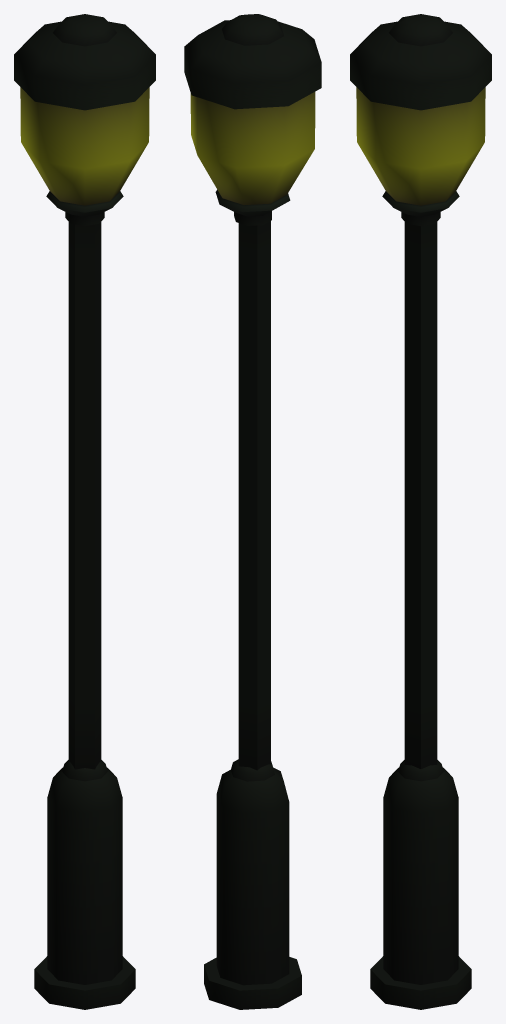
Rendered from SM_Streetlight_001.fbx.
The picture shows the model from 3 angles, left to right: view 1: azimuth 90°, elevation 25°; view 2: azimuth 210°, elevation 25°; view 3: azimuth 270°, elevation 25°; orthographic projection.
Parts seen in each view (by area): view 1: SM_Streetlight_001; view 2: SM_Streetlight_001; view 3: SM_Streetlight_001.
Part boxes in pixels (x1=…): SM_Streetlight_001: x1=14, y1=14, x2=155, y2=1009; SM_Streetlight_001: x1=184, y1=14, x2=321, y2=1009; SM_Streetlight_001: x1=350, y1=14, x2=491, y2=1009.
Size of the model in its own units: 47.93 by 361 by 47.93.
